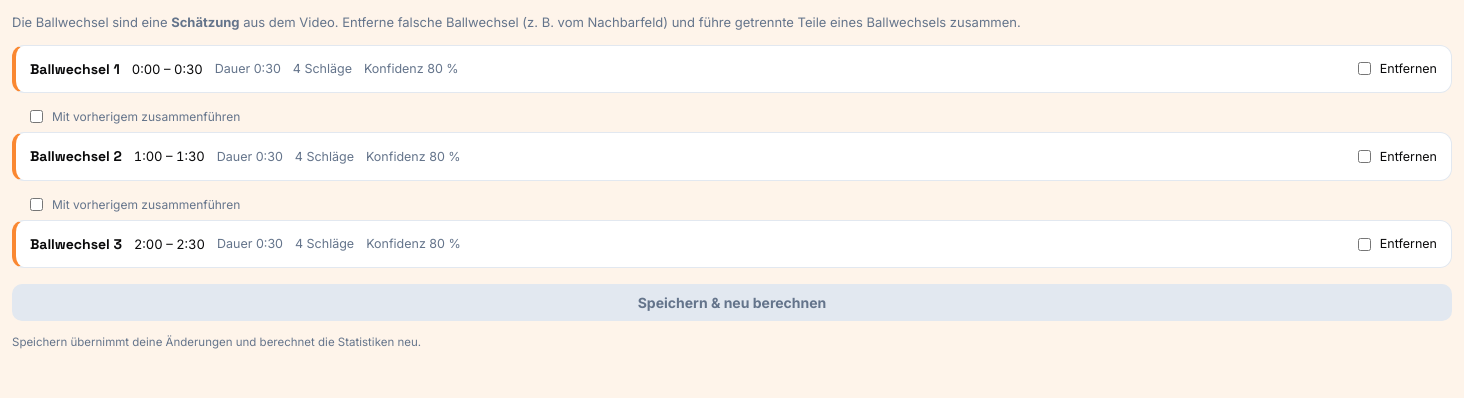
Scenario: RallyReviewBoard › blocks Save and warns when merging next to a dropped rally
Click the checkbox named "Ballwechsel 2 entfernen" at (1364, 157), box [1358,150,1371,163]
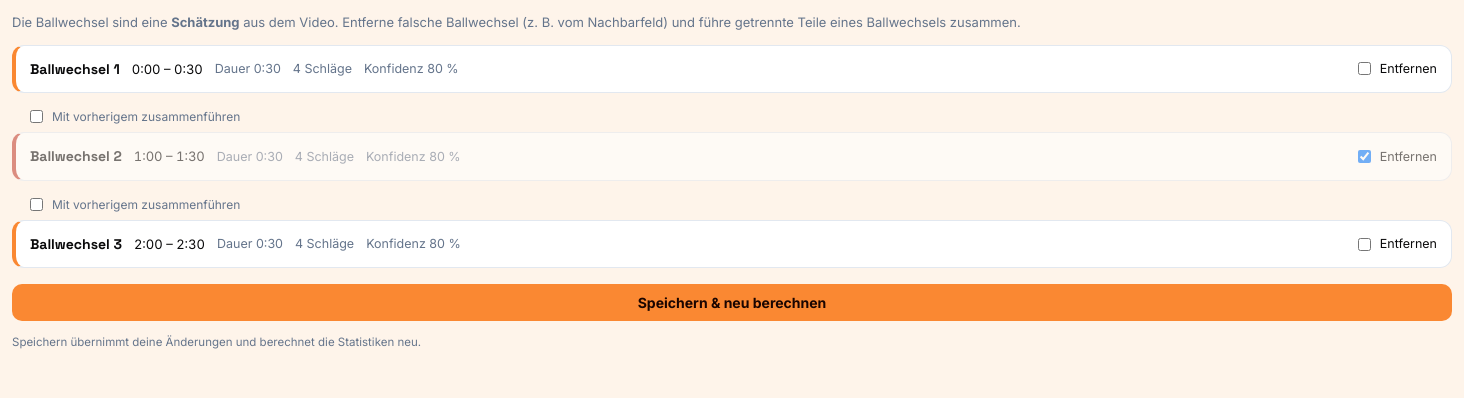
Click the checkbox named "Ballwechsel 3 mit vorherigem" at (36, 204), box [30,198,43,211]
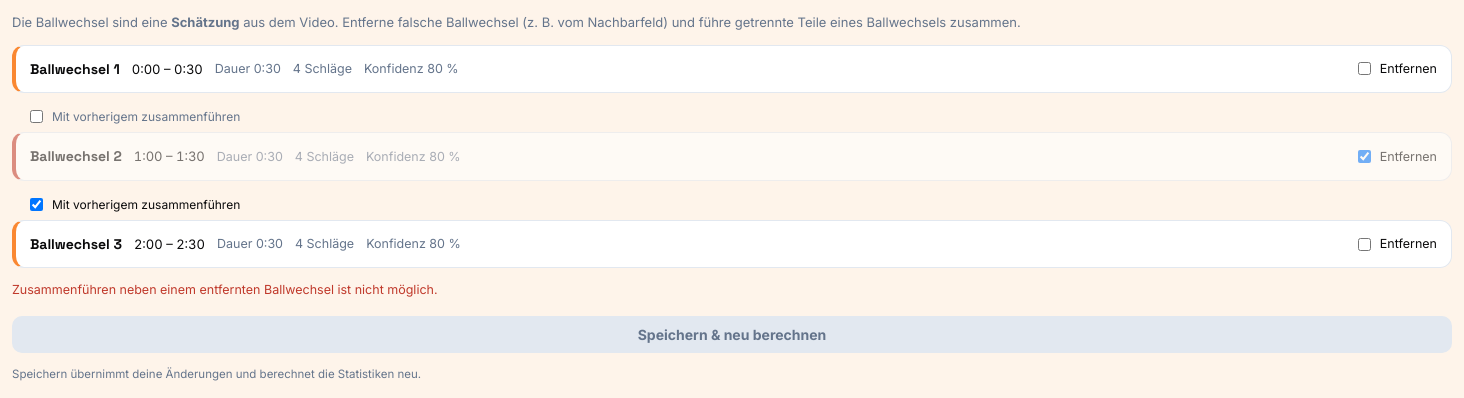
Now the text "entfernten Ballwechsel" is shown, box [12,282,438,297]
Now the button "Speichern & neu berechnen" is disabled, box [12,316,1452,353]
